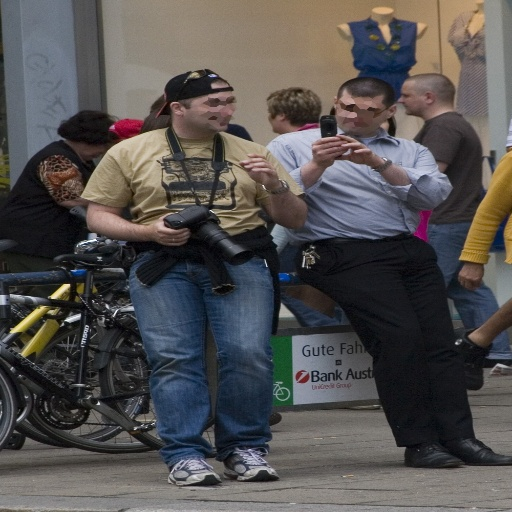hand: (232, 144, 289, 185), (147, 208, 192, 248), (335, 130, 379, 166), (307, 135, 349, 169), (452, 260, 485, 292)
